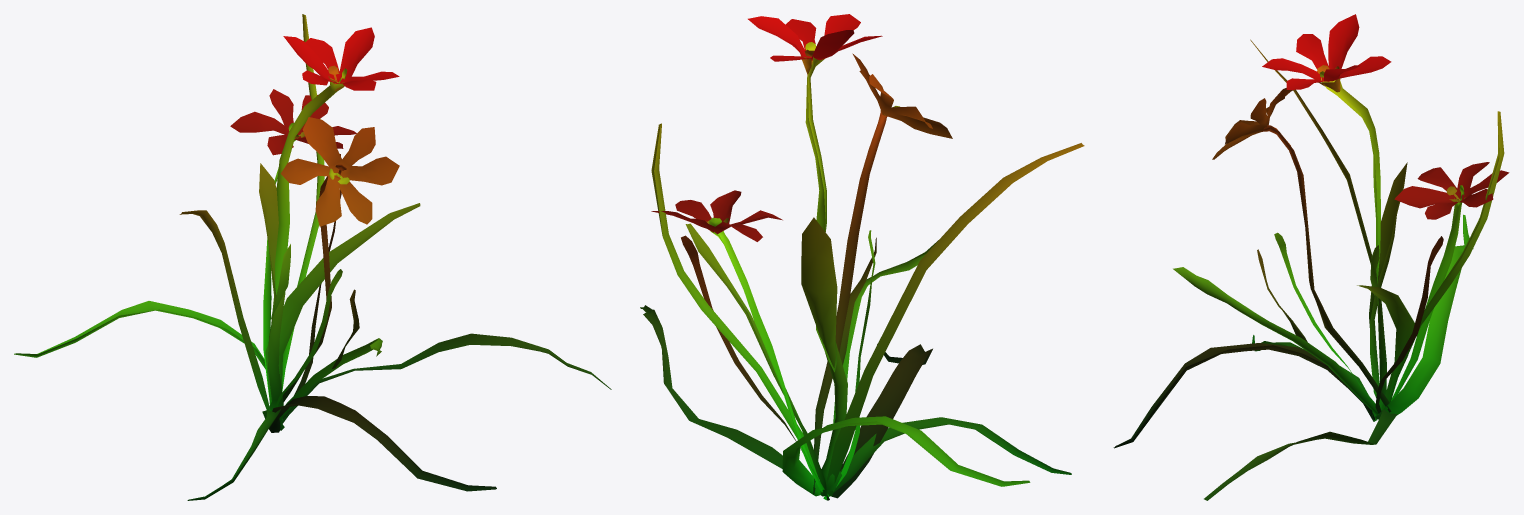
Rendered from SM_OW_Flower_b_LOD0.fbx.
The picture shows the model from 3 angles, left to right: view 1: azimuth 30°, elevation 25°; view 2: azimuth 150°, elevation 25°; view 3: azimuth 270°, elevation 25°; orthographic projection. The views are drawn at different scales.
Parts seen in each view (by area): view 1: SM_OW_Flower_b_LOD0; view 2: SM_OW_Flower_b_LOD0; view 3: SM_OW_Flower_b_LOD0.
Boxes of the visible parts, bbox=[...] form: SM_OW_Flower_b_LOD0: bbox=[14, 14, 611, 500]; SM_OW_Flower_b_LOD0: bbox=[640, 14, 1084, 500]; SM_OW_Flower_b_LOD0: bbox=[1113, 14, 1509, 500].
Size of the model in its own units: 0.2169 by 0.1786 by 0.1579.
